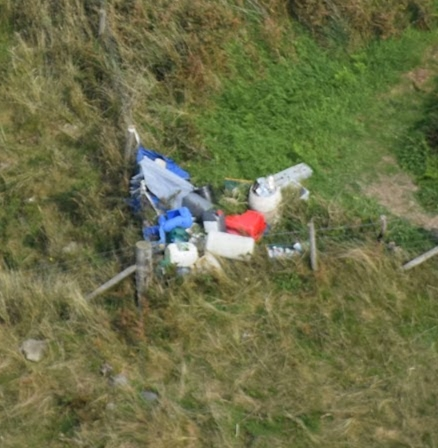together_barrel: (127, 140, 319, 272)
